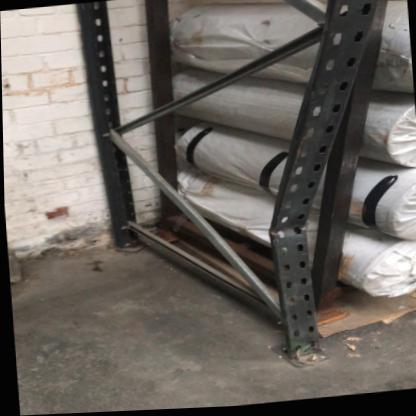vertical_damage: (255, 115, 347, 305)
